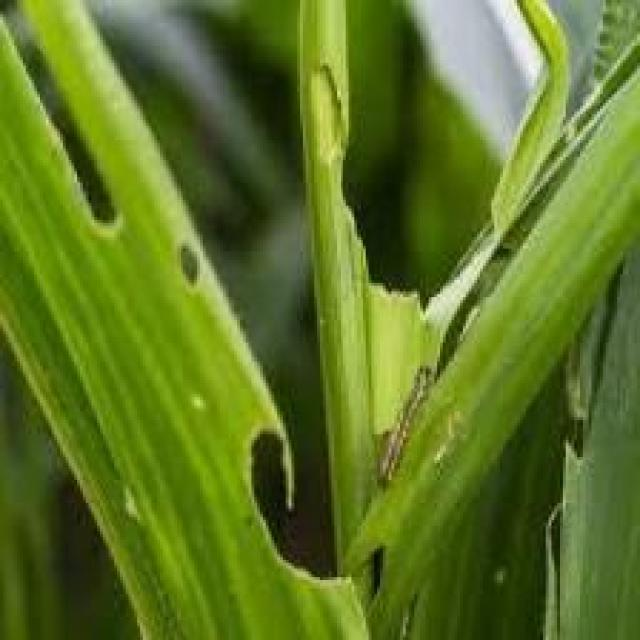Plaga: (375, 346, 438, 506)
